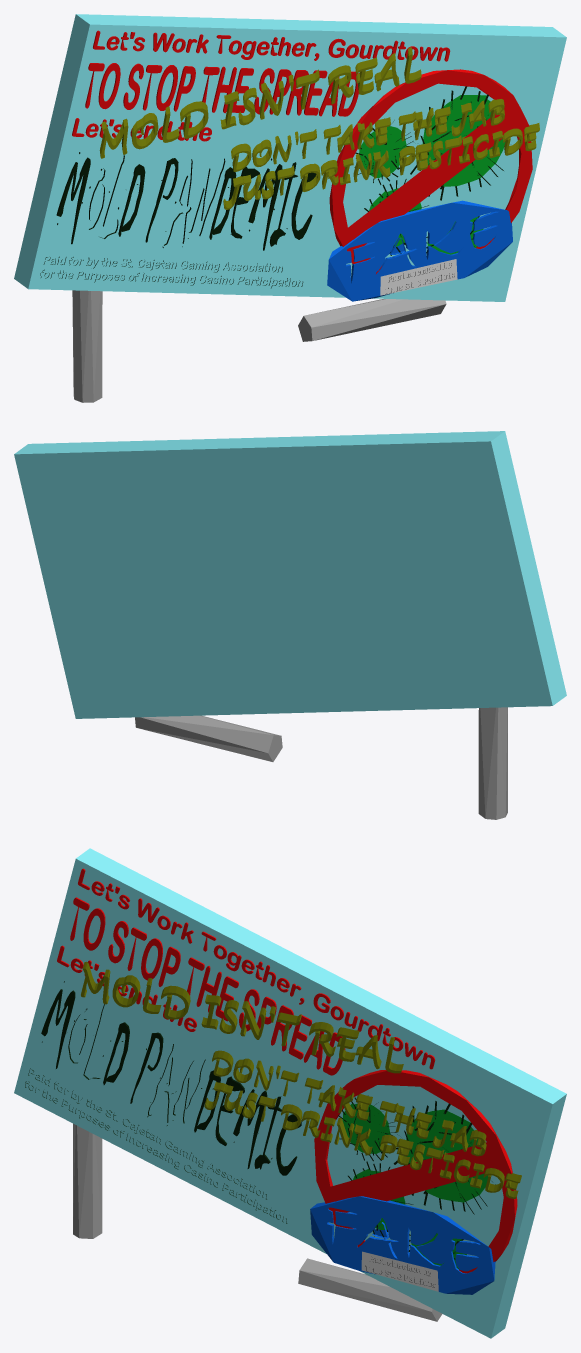
The model's file is Pandemic Sign.glb.
3 views of the same model, one above another, from view 1: azimuth 30°, elevation 25°; view 2: azimuth 150°, elevation 25°; view 3: azimuth 330°, elevation 25° (orthographic).
Visible parts, largest first — view 1: Billboard Back, Sign Text, Graffiti, Supports; view 2: Billboard Back, Supports; view 3: Billboard Back, Sign Text, Graffiti, Supports.
Boxes of the visible parts, x1=… form: Billboard Back: x1=14, y1=14, x2=566, y2=301; Sign Text: x1=40, y1=30, x2=532, y2=288; Graffiti: x1=99, y1=47, x2=539, y2=301; Supports: x1=72, y1=290, x2=446, y2=402; Billboard Back: x1=14, y1=431, x2=566, y2=718; Supports: x1=135, y1=707, x2=507, y2=819; Billboard Back: x1=14, y1=848, x2=566, y2=1338; Sign Text: x1=25, y1=868, x2=517, y2=1273; Graffiti: x1=81, y1=961, x2=521, y2=1294; Supports: x1=73, y1=1123, x2=442, y2=1321.
Size of the model in its own units: 6.67 by 4.5 by 0.3706.
